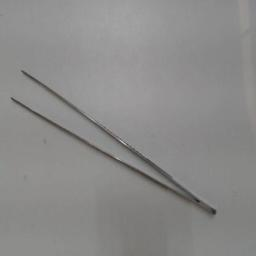DeBakey Dissector: (5, 60, 221, 218)
